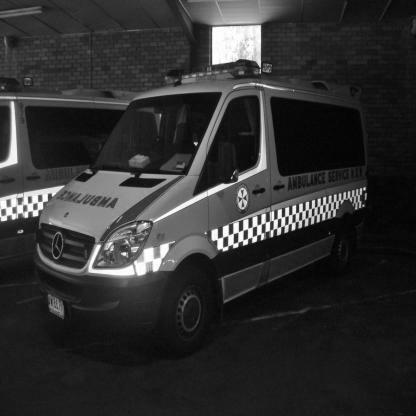ambulance: (34, 52, 378, 363)
